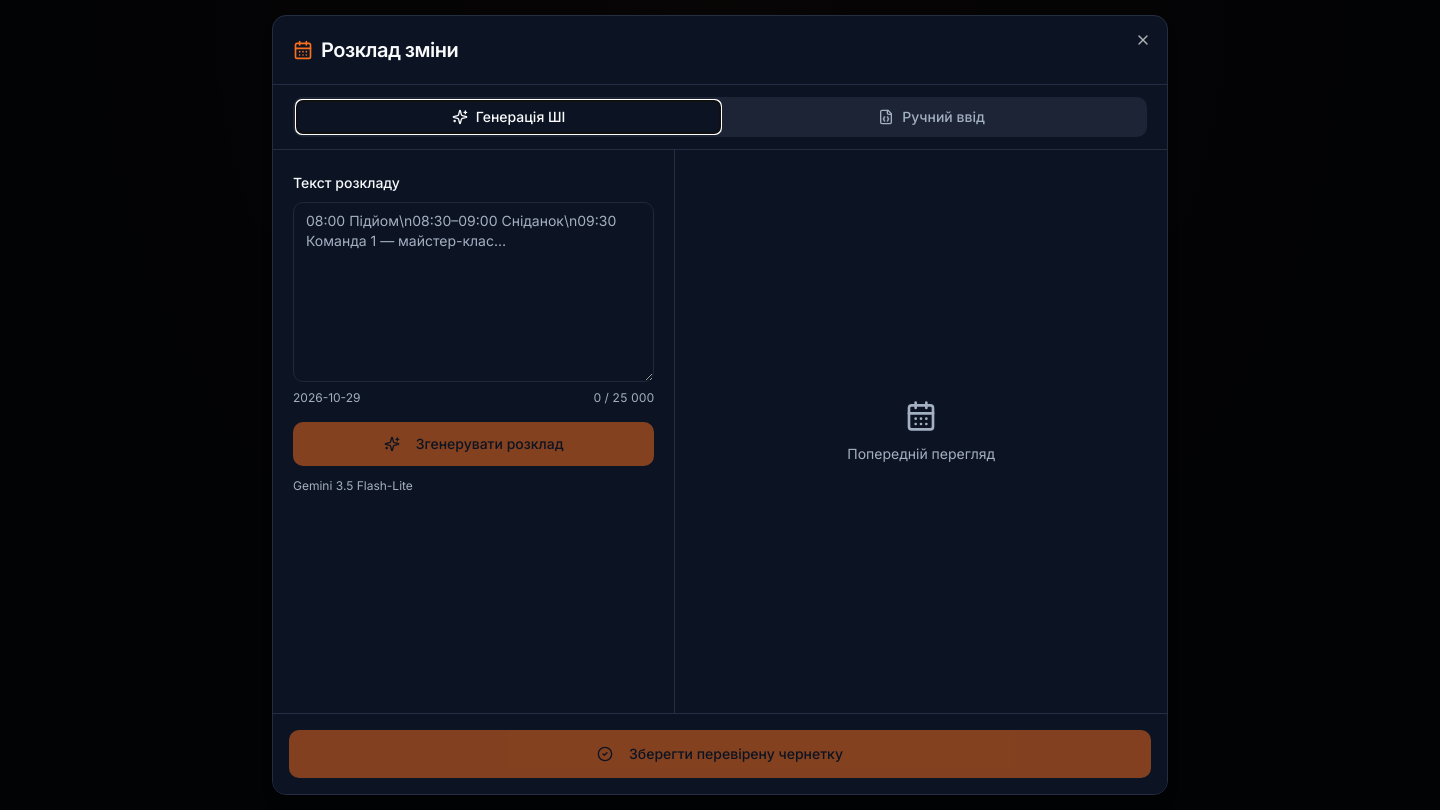
Test: admin schedule preview flow › generates inside the modal and validates before draft save
Replace the text in the text box labelled "Текст розкладу" with "09:00–10:00 Сніданок" at x=474, y=292, box x1=293 y1=202 x2=654 y2=382
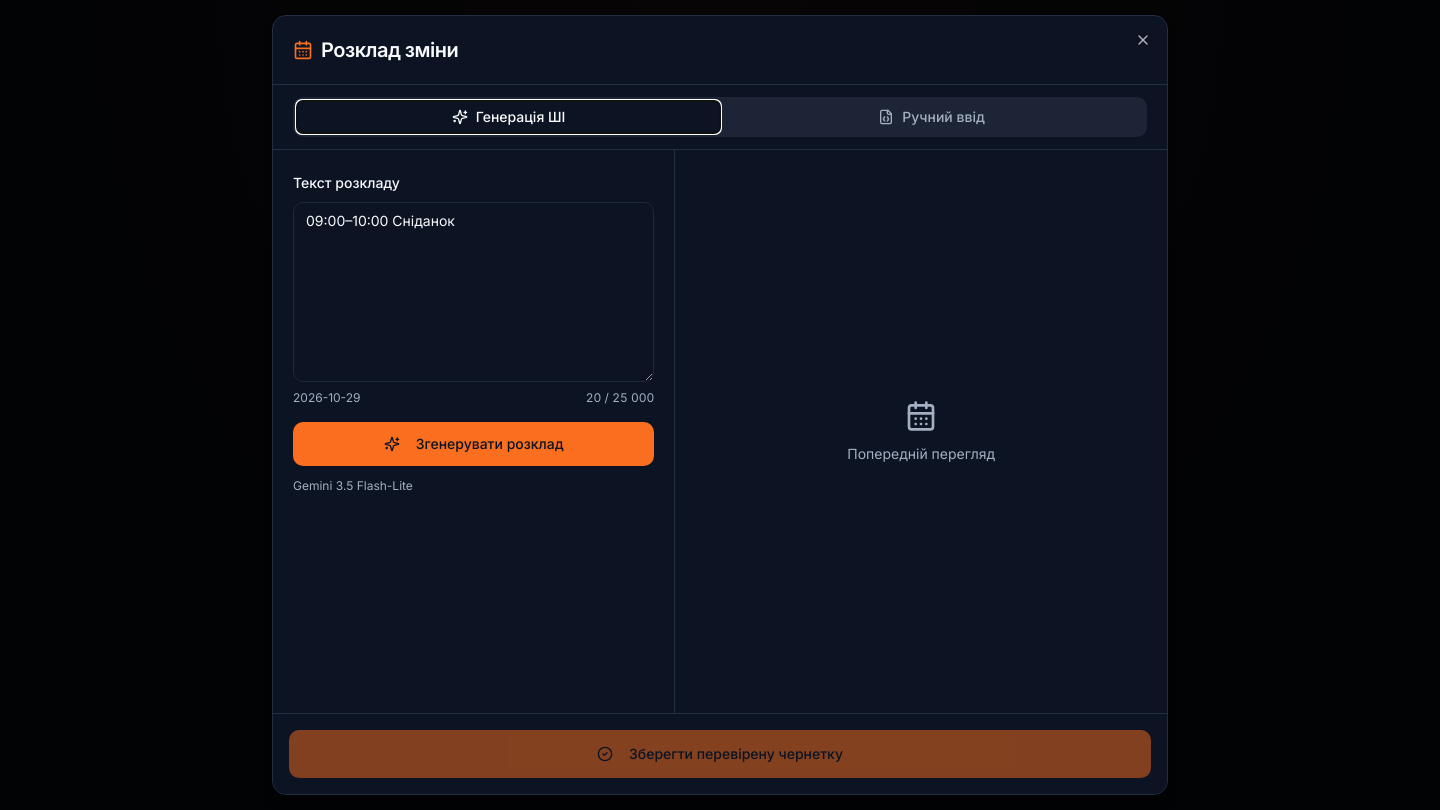
Click the button "Згенерувати розклад" at x=474, y=444, box x1=293 y1=422 x2=654 y2=466
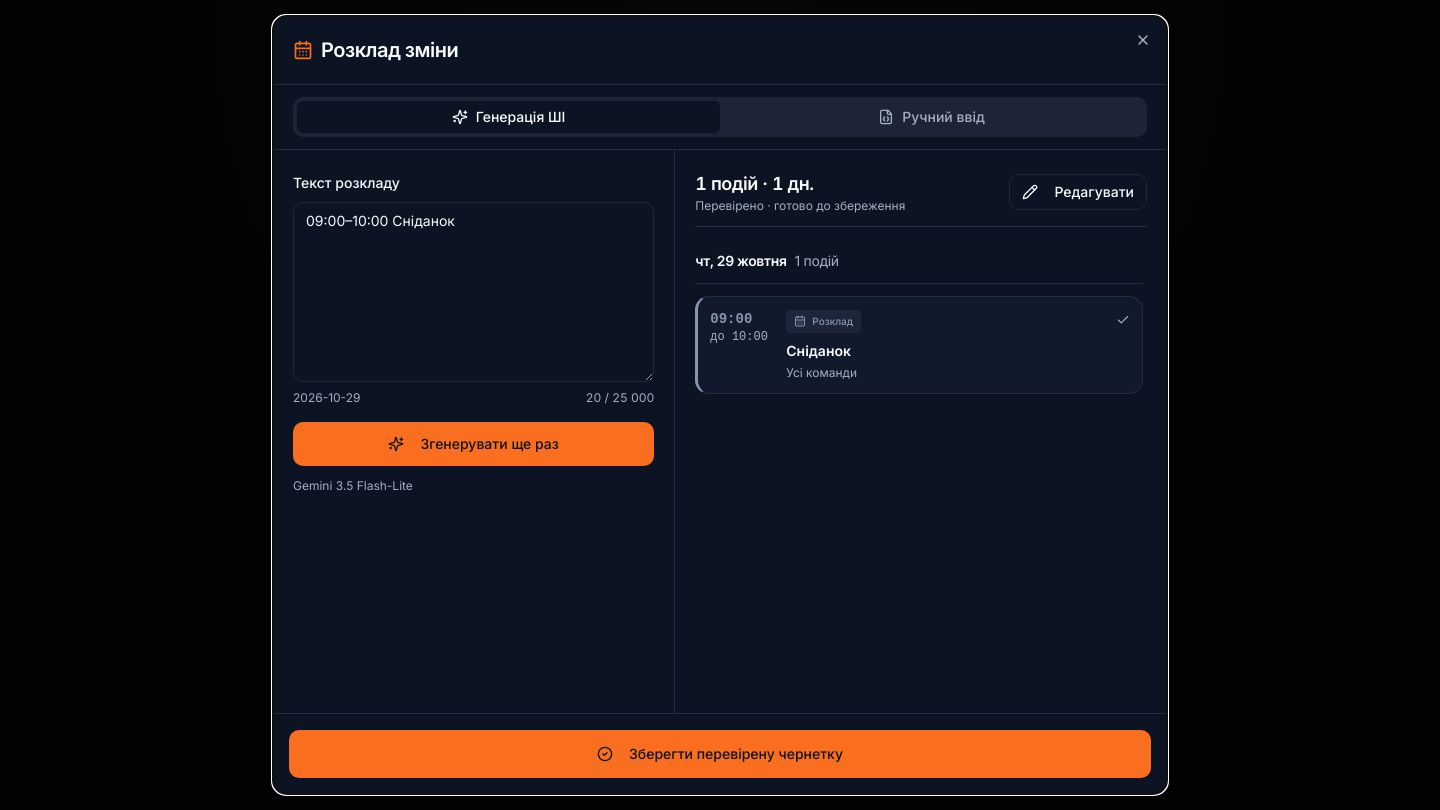
Check: the button "Зберегти перевірену чернетку" is enabled, box x1=289 y1=730 x2=1151 y2=778
